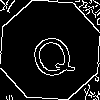Q: (25, 25, 78, 83)
